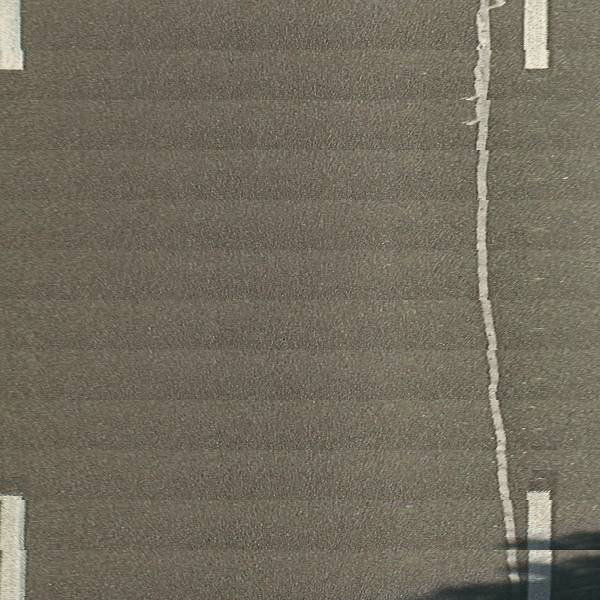road_damage: (469, 1, 524, 595)
